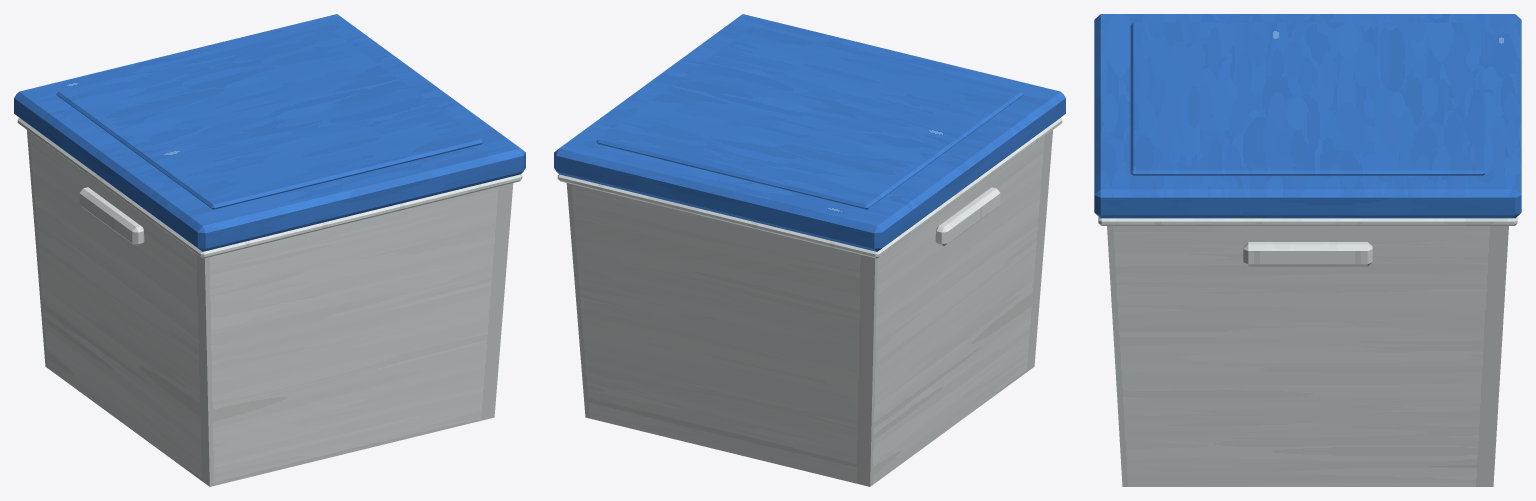
Rendered from gk_bin.glb.
3 views of the same model, side by side, from view 1: azimuth 30°, elevation 25°; view 2: azimuth 150°, elevation 25°; view 3: azimuth 270°, elevation 25° (orthographic). The views are drawn at different scales.
Parts seen in each view (by area): view 1: p; view 2: p; view 3: p.
Boxes of the visible parts, x1,y1,x2,y2 form: p: (14, 14, 525, 486); p: (554, 14, 1065, 486); p: (1094, 14, 1521, 486).
Bounding box in the file's own units: 0.53 × 0.427 × 0.53.
2 materials, 2 textured.
